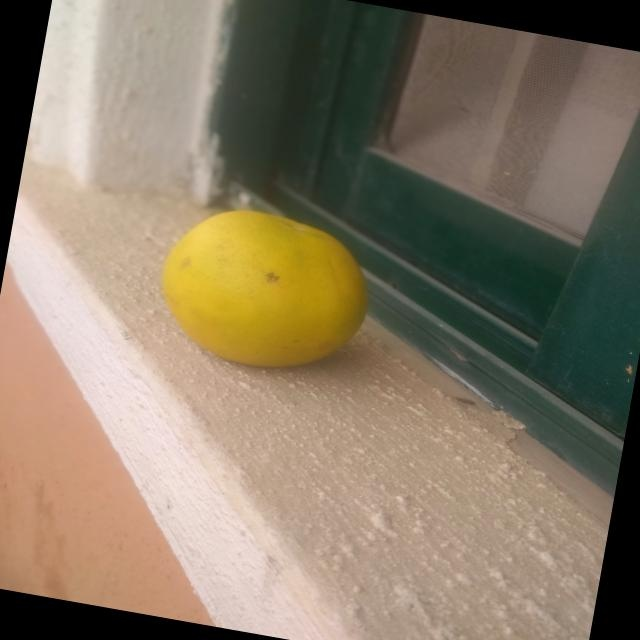agrume: (148, 199, 384, 388)
